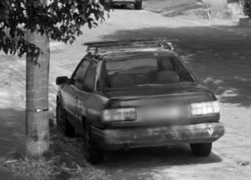car: (55, 44, 224, 166)
